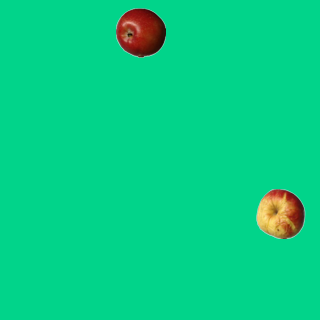Apple Braeburn: (115, 7, 165, 57)
Apple Red Yellow 1: (255, 188, 305, 238)
